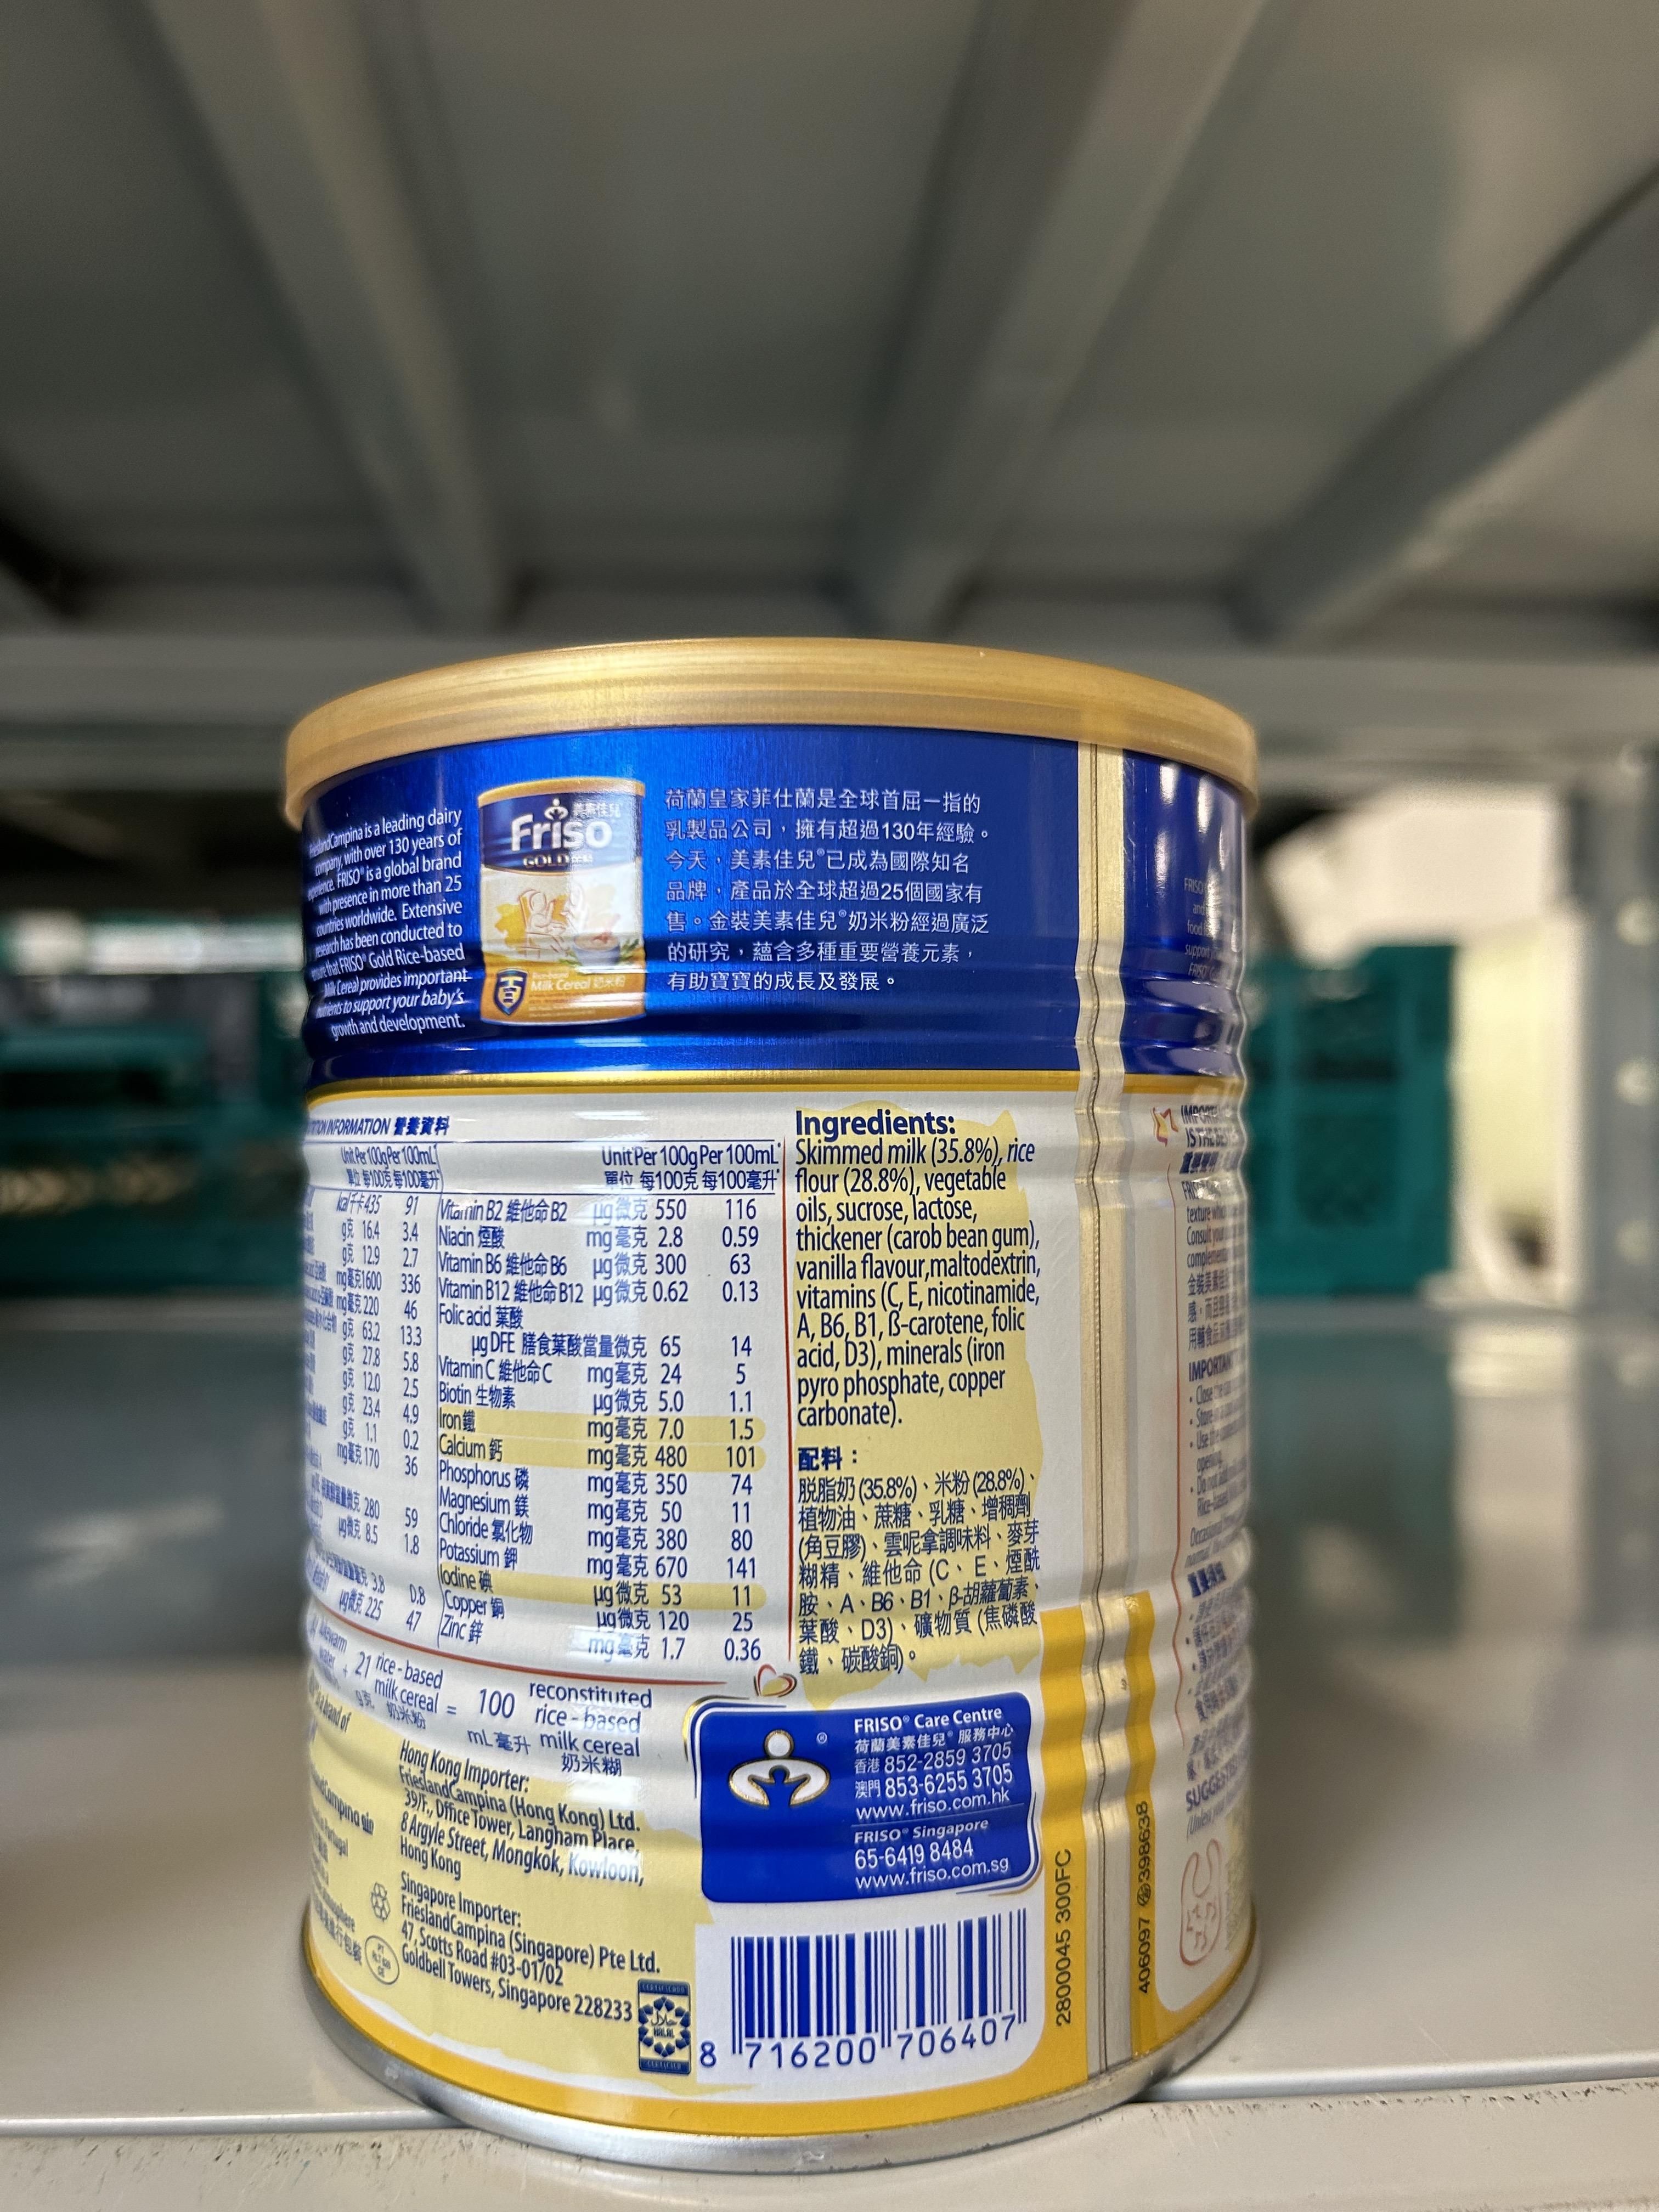object_name: (312, 735, 1251, 2005)
